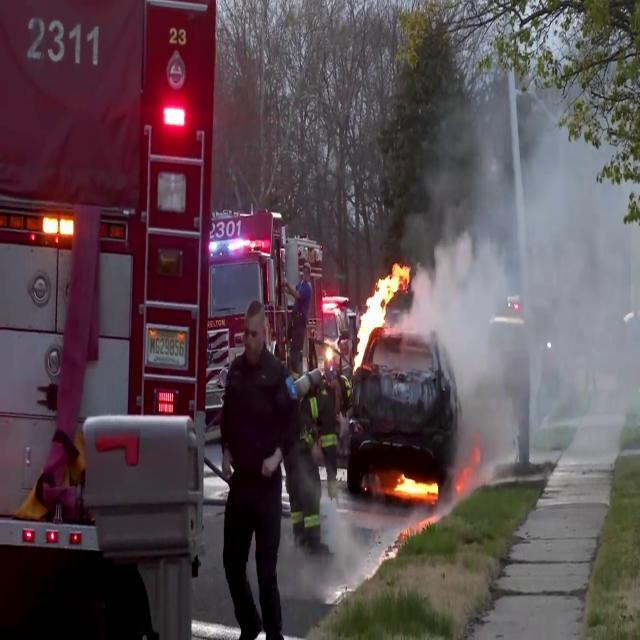Fire: (352, 249, 408, 371), (392, 465, 440, 507)
Smoke: (415, 68, 640, 466)
